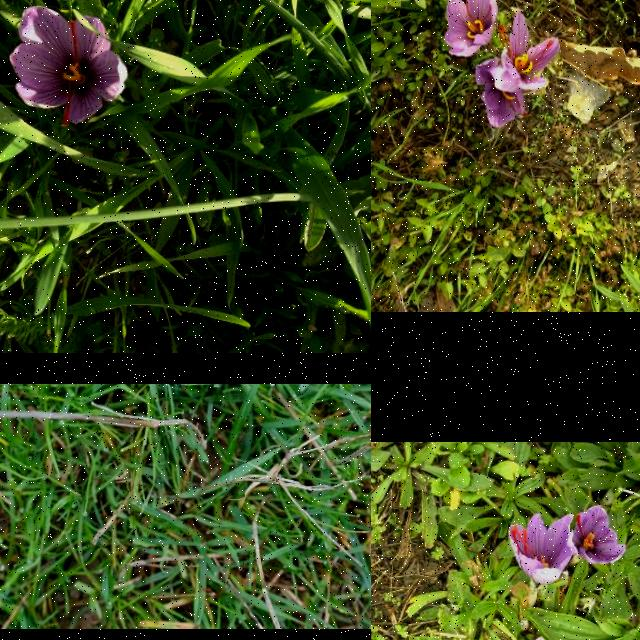flower: (10, 5, 128, 124), (508, 512, 578, 584), (571, 506, 627, 564), (445, 0, 497, 57)
overlap: (476, 15, 560, 129)
